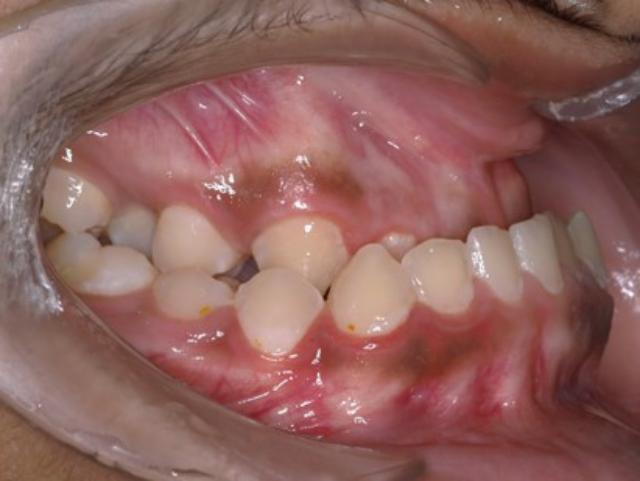canine class III 1/4: (233, 196, 419, 374)
molar class III 1/2: (30, 162, 156, 310)
